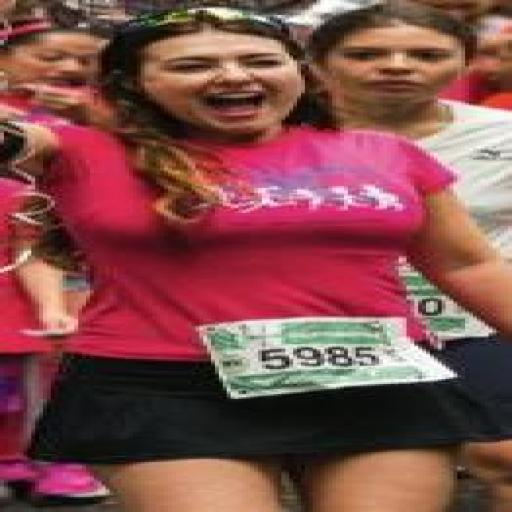person: (0, 7, 511, 511), (309, 2, 511, 257), (0, 20, 105, 123)
